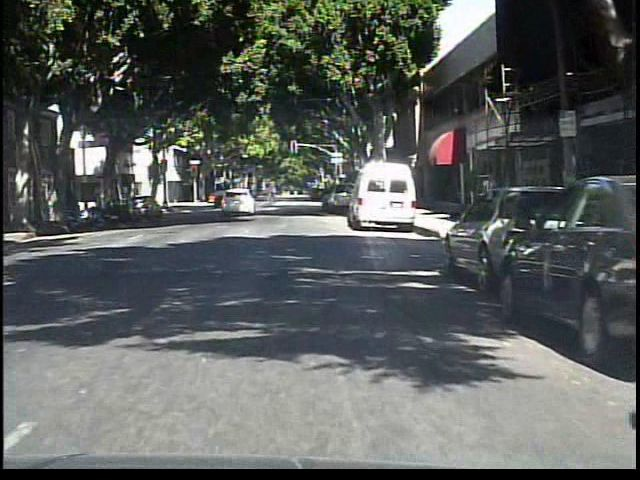person: (475, 166, 502, 225), (262, 179, 282, 213)
